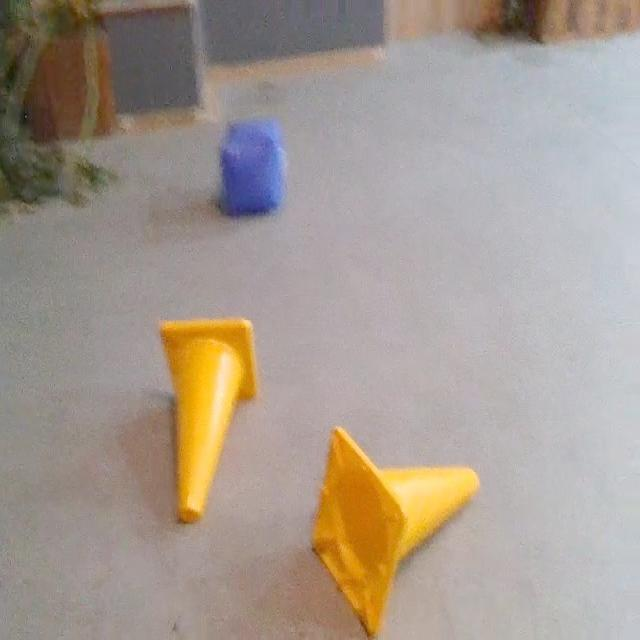cone: (311, 425, 482, 639), (159, 320, 262, 527)
cube: (220, 126, 286, 218)
